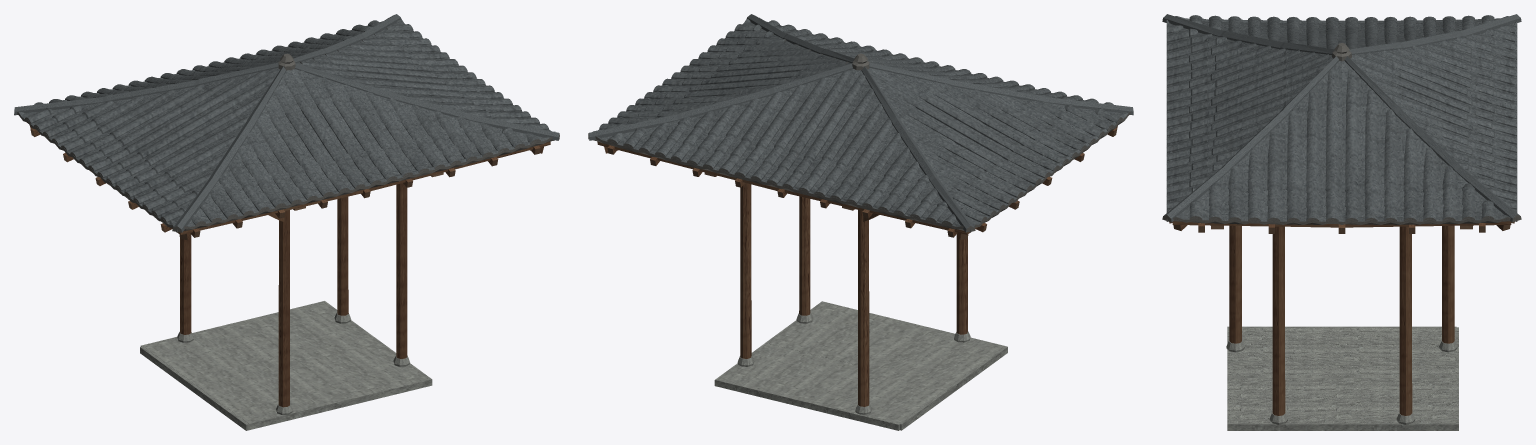
File: GalleryCorner_LOD0.fbx
3 renders of one model, left to right at view 1: azimuth 30°, elevation 25°; view 2: azimuth 150°, elevation 25°; view 3: azimuth 270°, elevation 25°, orthographic. The views are drawn at different scales.
Parts seen in each view (by area): view 1: GalleryCorner; view 2: GalleryCorner; view 3: GalleryCorner.
Boxes of the visible parts, <box> form: GalleryCorner: <box>14,14,559,430</box>; GalleryCorner: <box>588,14,1133,430</box>; GalleryCorner: <box>1162,14,1521,430</box>.
Size of the model in its own units: 6.19 by 4.79 by 4.61.
Materials: 1 (1 with a texture image).
